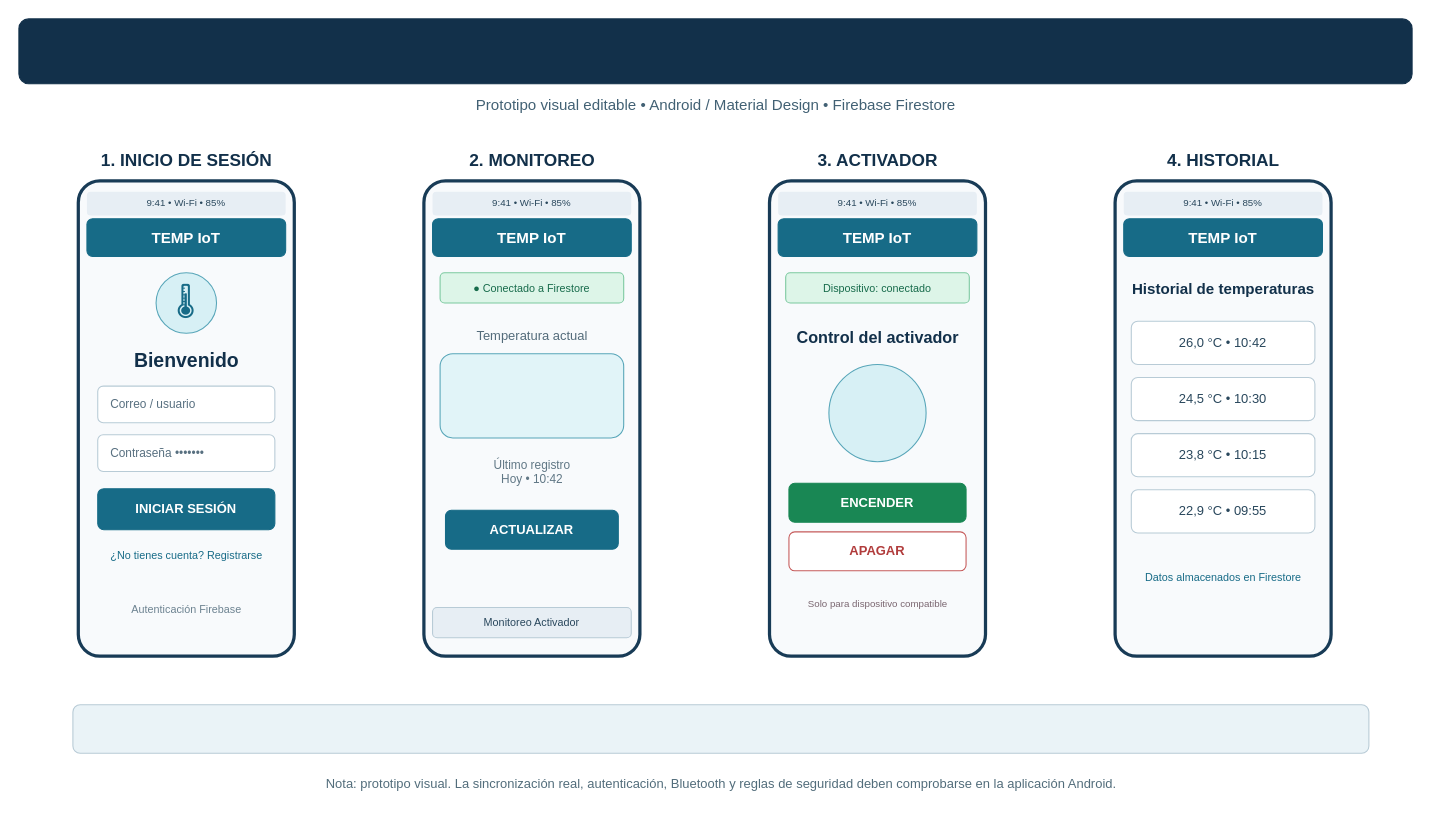
The diagram is 1431 pixels wide and 832 high, and some of its shapes have lost their labels. The centre of each missing label's shape, as x and y in pixels:
24,5 °C: point (531, 395)
ACTIVADOR: point (877, 412)
FLUJO: Login → Monitoreo → Activador / Historial: point (720, 728)
MONITOR DE TEMPERATURA IoT — MOCKUP DE INTERFAZ: point (715, 51)
